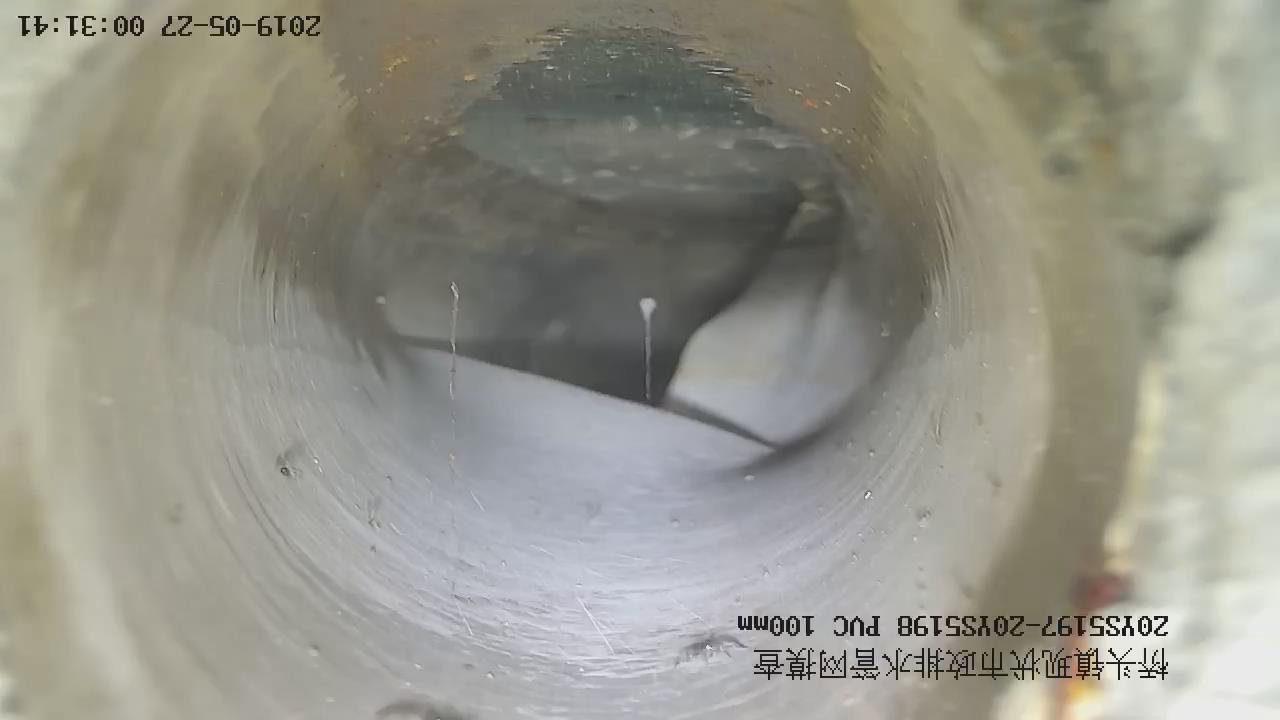BX: (348, 207, 909, 520)
CJ: (323, 1, 873, 153)
